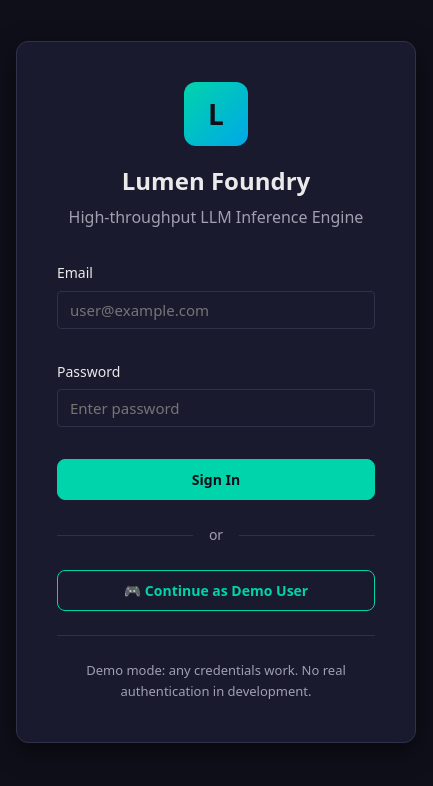
Test: Login › shows error on failed login
The image size is (433, 786).
Step 1. Type "test@test.com" into the field labelled "Email" → point(216, 310), box left=57, top=290, right=375, bottom=328
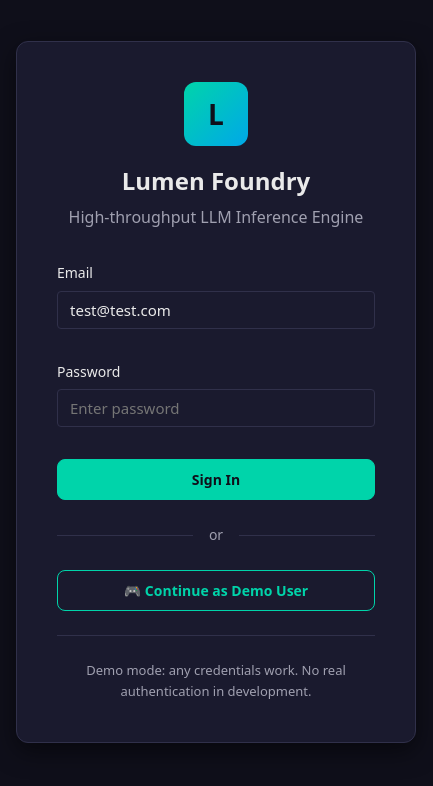
Step 2. Type "password" into the password field labelled "Password" → point(216, 408), box left=57, top=389, right=375, bottom=427
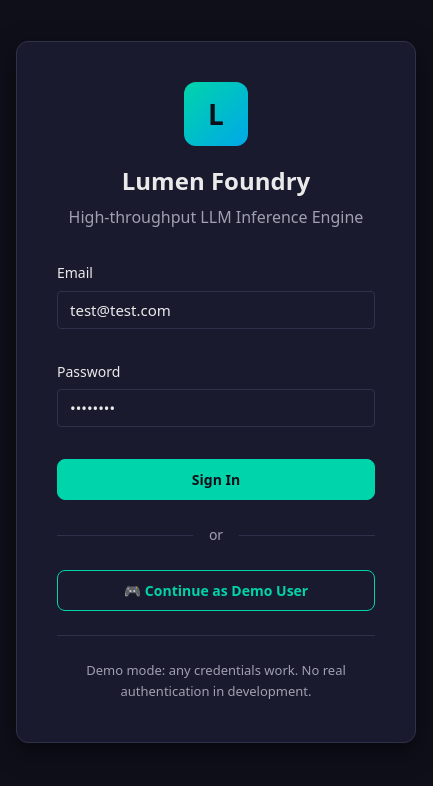
Step 3. Click the button "Sign In" → point(216, 479), box left=57, top=459, right=375, bottom=500
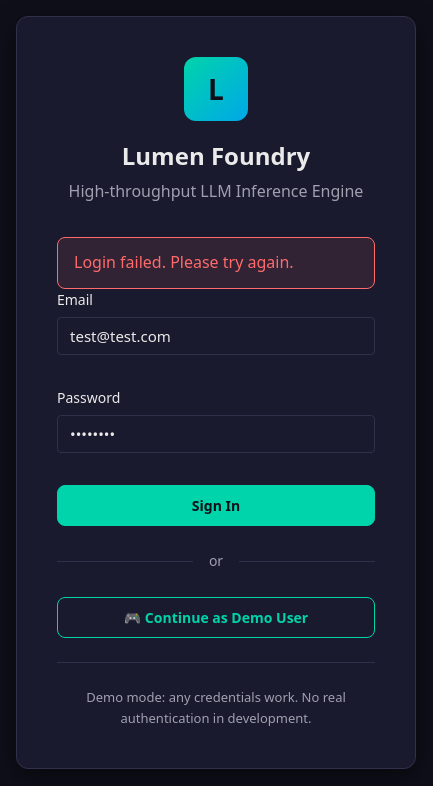
Expected: the text "Login failed. Please try again." is shown, left=57, top=237, right=375, bottom=289
